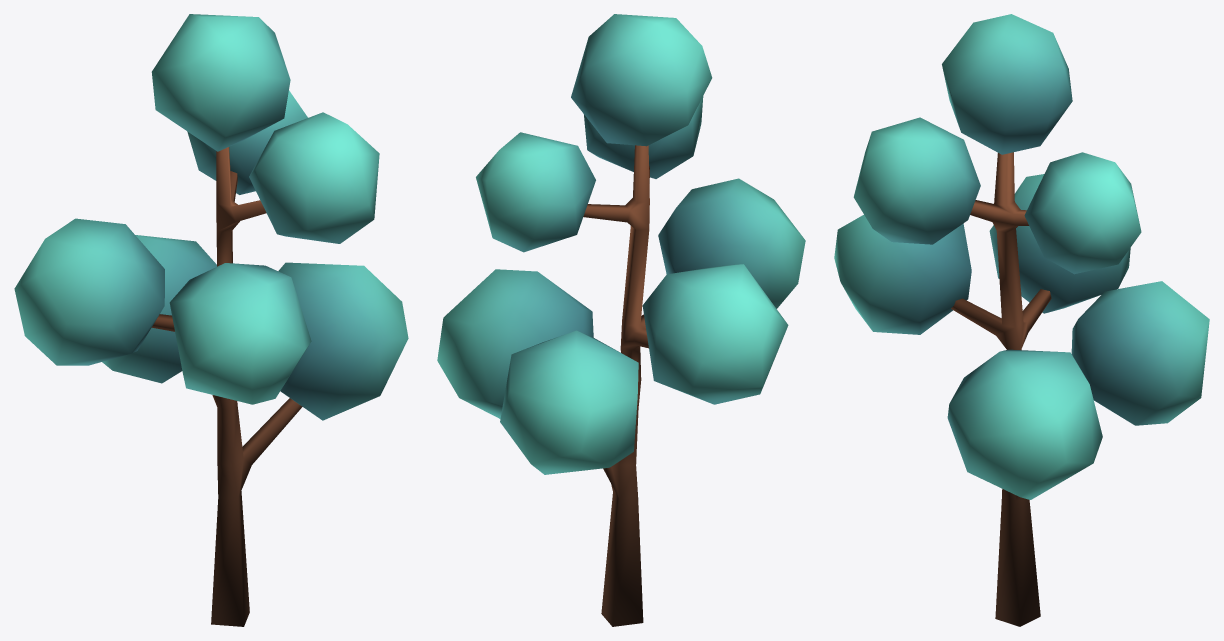
File: VEG0210034.fbx
3 views of the same model, side by side, from view 1: azimuth 30°, elevation 25°; view 2: azimuth 150°, elevation 25°; view 3: azimuth 270°, elevation 25° (orthographic). The views are drawn at different scales.
Parts seen in each view (by area): view 1: smVEG0210034; view 2: smVEG0210034; view 3: smVEG0210034.
Part boxes in pixels (x1,y1,x2,y2): smVEG0210034: (14,14,408,626); smVEG0210034: (437,14,805,626); smVEG0210034: (834,14,1209,626).
Size of the model in its own units: 433 by 723 by 417.
1 material, 1 textured.
